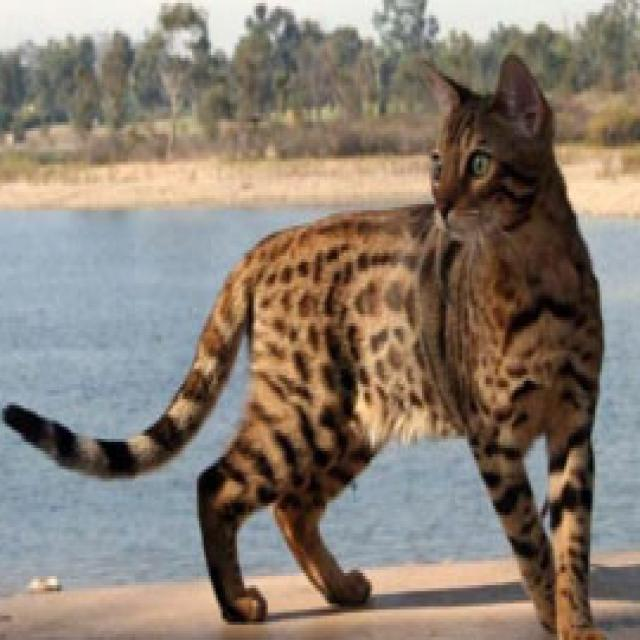Bengal: (0, 39, 618, 640)
